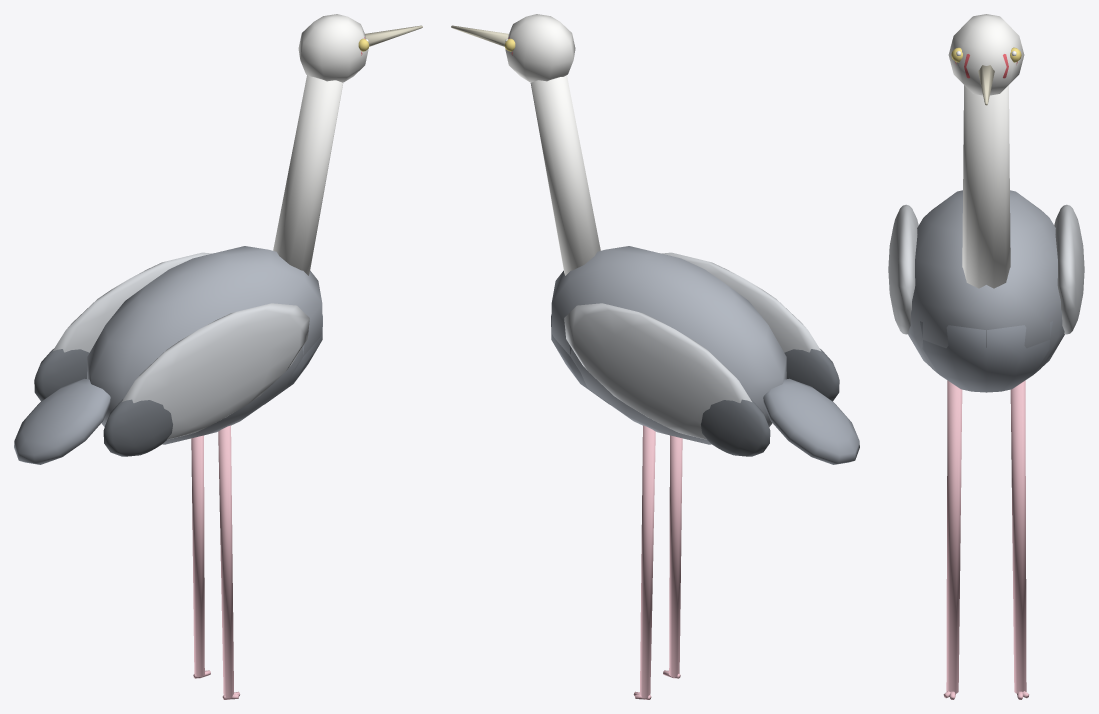
The model's file is white-naped-crane.glb.
3 views of the same model, side by side, from view 1: azimuth 30°, elevation 25°; view 2: azimuth 150°, elevation 25°; view 3: azimuth 270°, elevation 25° (orthographic). The views are drawn at different scales.
Parts seen in each view (by area): view 1: e, e.002, e.007, e.004, e.009, limb, limb.004; view 2: e, e.004, e.007, e.002, e.009, limb.004, limb; view 3: e, e.007, e.009, limb, limb.004, e.002, e.004.
Part boxes in pixels (left/top/right/bottom): e: left=14, top=246, right=322, bottom=464; e.002: left=103, top=303, right=309, bottom=456; e.007: left=273, top=75, right=343, bottom=275; e.004: left=34, top=252, right=212, bottom=401; e.009: left=298, top=14, right=422, bottom=82; limb: left=218, top=425, right=240, bottom=699; limb.004: left=191, top=435, right=210, bottom=678; e: left=551, top=246, right=859, bottom=464; e.004: left=564, top=303, right=770, bottom=456; e.007: left=530, top=75, right=600, bottom=275; e.002: left=661, top=252, right=839, bottom=401; e.009: left=451, top=14, right=575, bottom=82; limb.004: left=633, top=425, right=655, bottom=699; limb: left=663, top=435, right=682, bottom=678; e: left=908, top=190, right=1064, bottom=392; e.007: left=962, top=85, right=1010, bottom=288; e.009: left=948, top=14, right=1024, bottom=105; limb: left=943, top=380, right=962, bottom=699; limb.004: left=1010, top=380, right=1029, bottom=699; e.002: left=888, top=204, right=918, bottom=334; e.004: left=1054, top=204, right=1084, bottom=334.
Size of the model in its own units: 0.8477 by 1.29 by 0.308.
